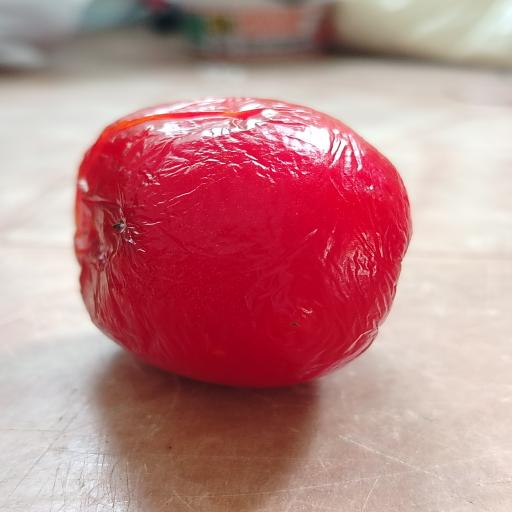spoiled: (75, 98, 411, 386)
